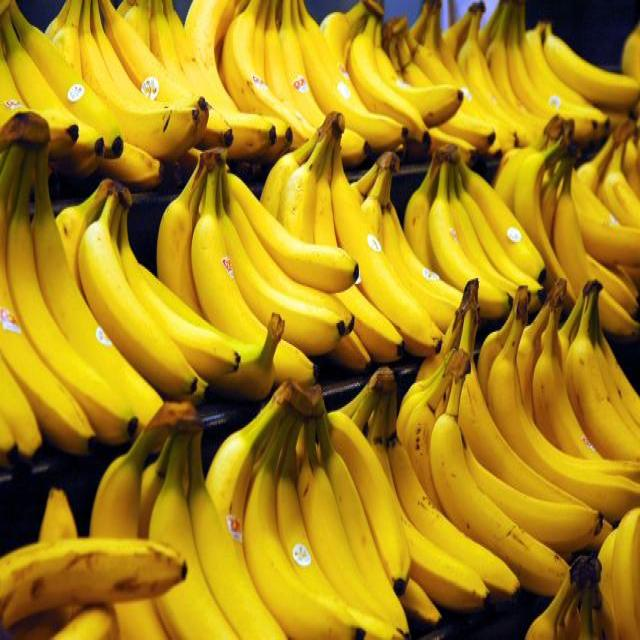Banana: (0, 114, 152, 475), (336, 332, 512, 635), (164, 143, 368, 383), (220, 377, 402, 640), (274, 107, 436, 402), (65, 167, 240, 436), (82, 417, 271, 640), (418, 286, 554, 582), (451, 0, 640, 176), (45, 0, 215, 160), (195, 0, 365, 158), (415, 122, 544, 327), (545, 269, 640, 473), (5, 522, 183, 629), (326, 11, 454, 145)
